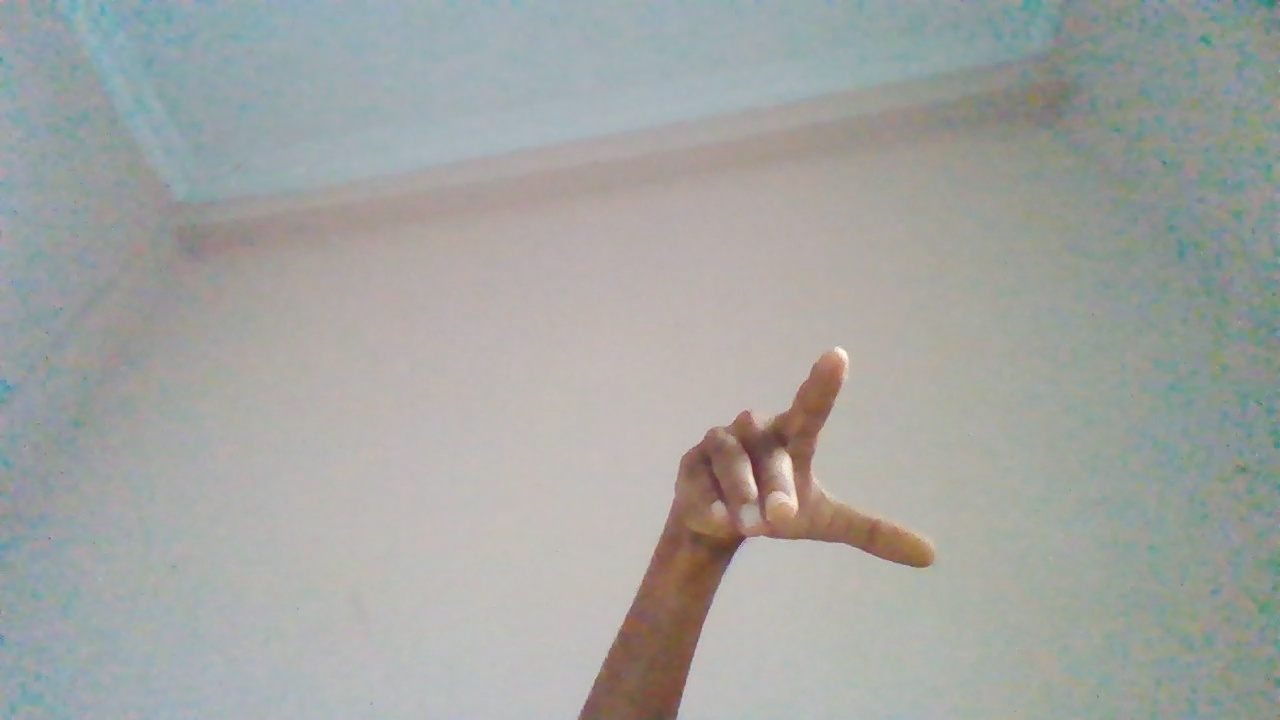ke: (622, 342, 940, 705)
